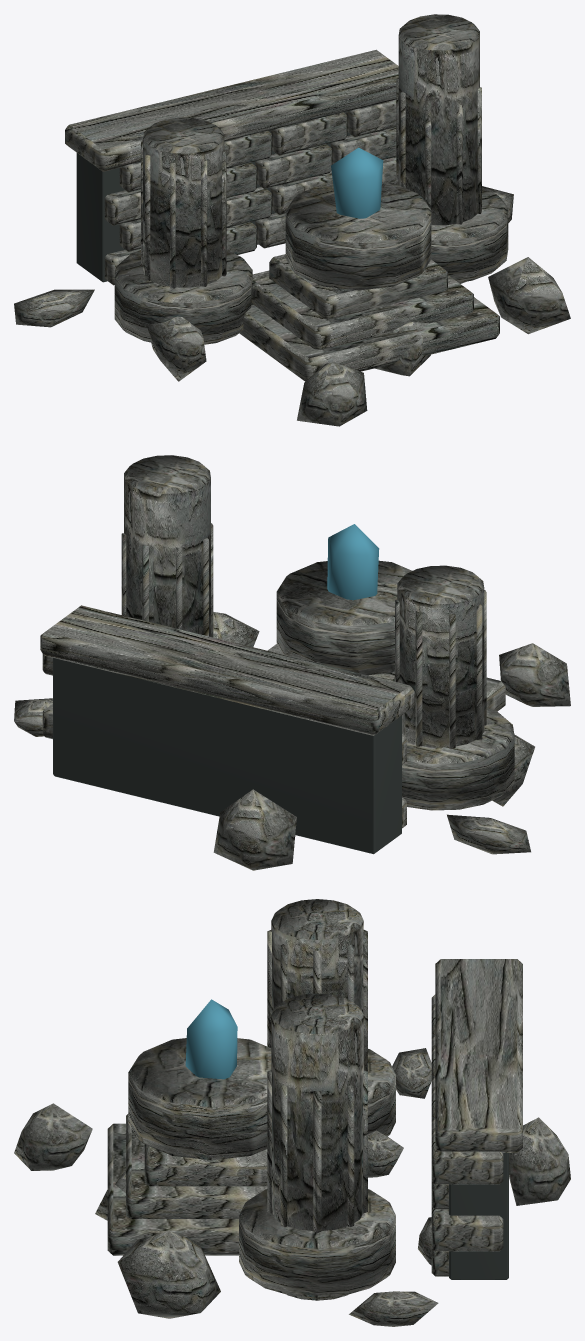
The model's file is env-site-ruins-mobile.glb.
3 renders of one model, top to bottom at view 1: azimuth 30°, elevation 25°; view 2: azimuth 150°, elevation 25°; view 3: azimuth 270°, elevation 25°, orthographic. The views are drawn at different scales.
Parts seen in each view (by area): view 1: site ruins · authored textured miniature; view 2: site ruins · authored textured miniature; view 3: site ruins · authored textured miniature.
Boxes of the visible parts, x1,y1,x2,y2 form: site ruins · authored textured miniature: (14,14,570,426); site ruins · authored textured miniature: (14,455,570,870); site ruins · authored textured miniature: (14,899,570,1326).
Bounding box in the file's own units: 1.38 × 0.7066 × 1.21.
3 materials, 1 textured.
